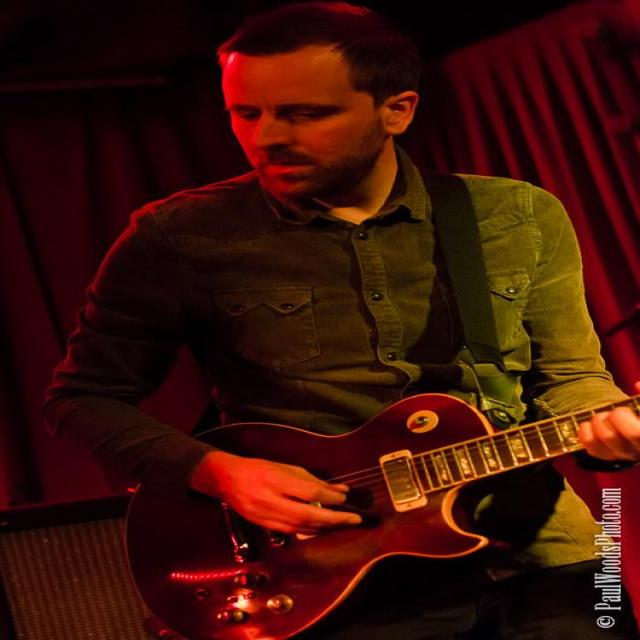guitar: (127, 394, 639, 639)
